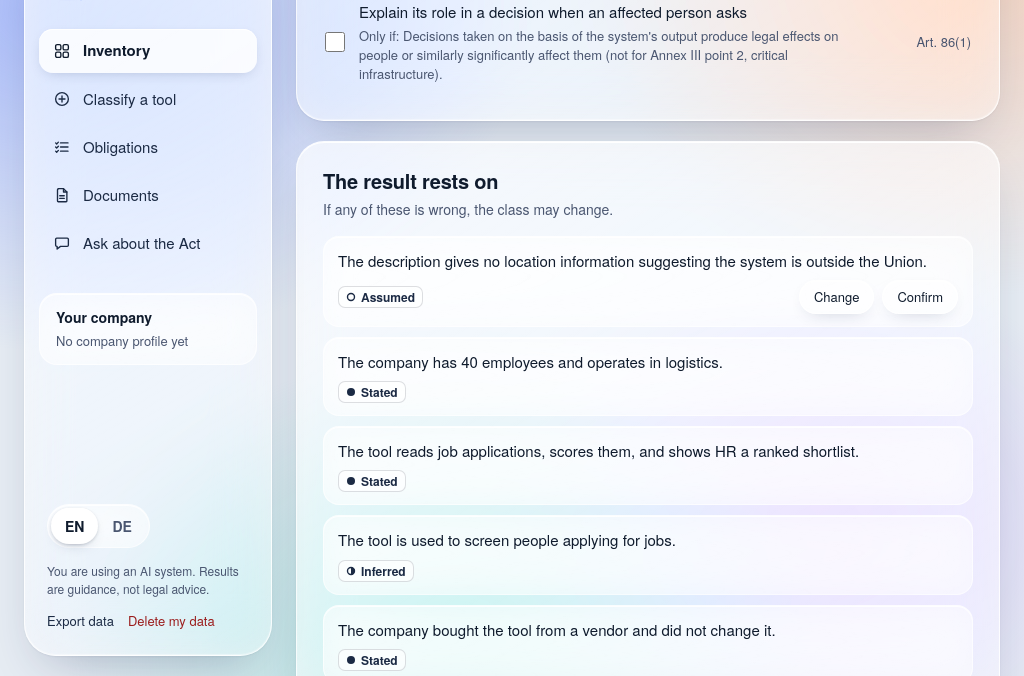
Test: Result summary › offers Change and Confirm on an assumed fact; Change reopens the description
(page scrolled)
Click the button "Change": click(837, 297) left=799, top=280, right=874, bottom=314
(page scrolled)
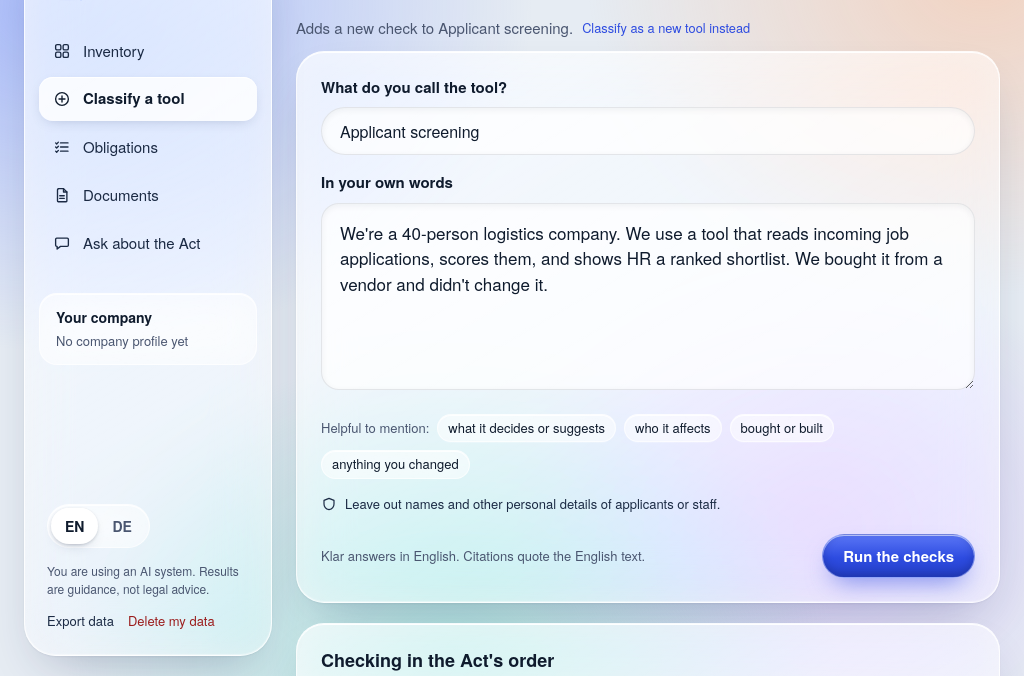
Result: the text box labelled "In your own words" holds "We're a 40-person logistics company. We use a tool that reads incoming job applications, scores them, and shows HR a ranked shortlist. We bought it from a vendo" at left=321, top=202, right=975, bottom=390
